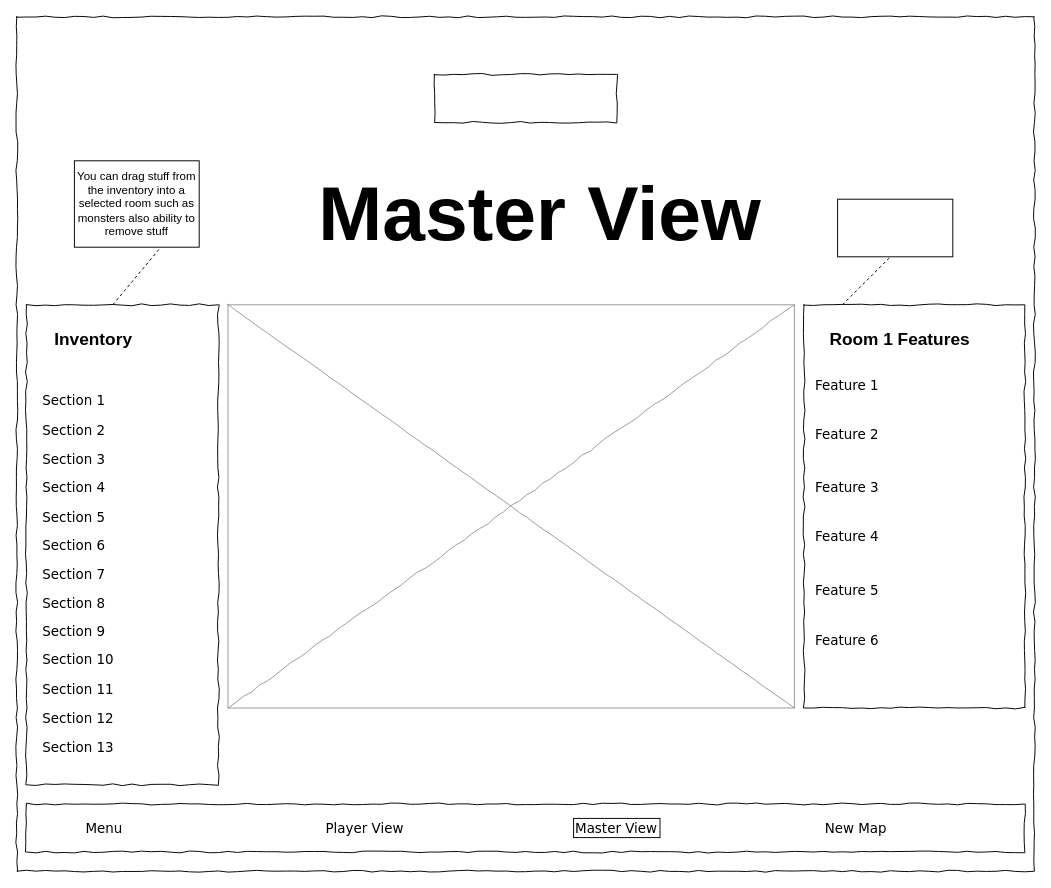
This 1051x888 diagram has some shape labels left out. The shapes that lost their labels are listed below. From the top down, each one's box as (x1, y1, x2, y2) in pixels, then its label:
(433, 73, 617, 122): LOGO
(837, 198, 953, 257): Clicking on a room will show up with that rooms features
